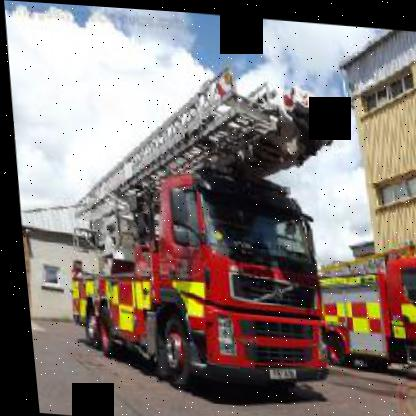emergency: (27, 45, 363, 404)
